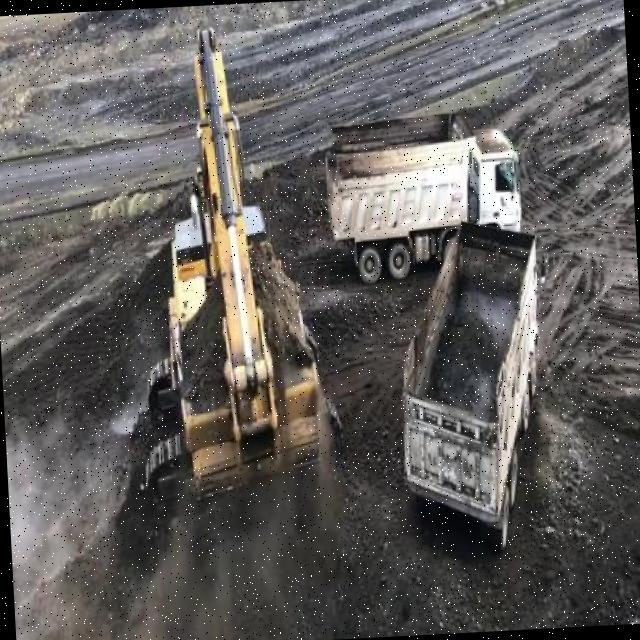Dump Truck: (392, 220, 552, 558), (323, 96, 527, 280)
Excavator: (105, 18, 352, 550)
